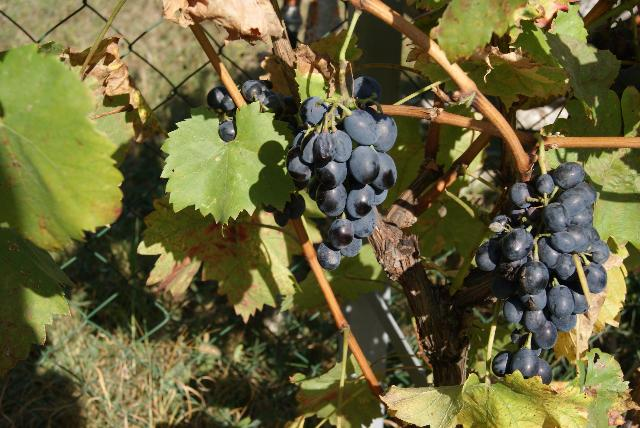grapes: (475, 162, 610, 385), (286, 78, 398, 270)
